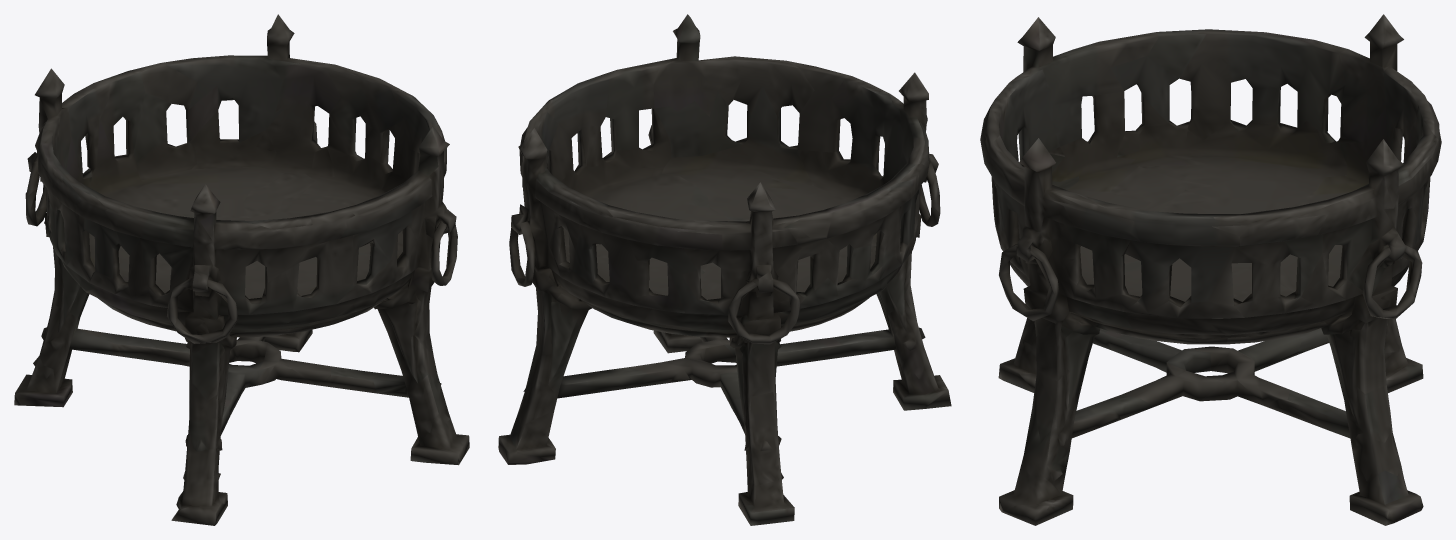
Rendered from floor-brazier.glb.
The picture shows the model from 3 angles, left to right: view 1: azimuth 30°, elevation 25°; view 2: azimuth 150°, elevation 25°; view 3: azimuth 270°, elevation 25°; orthographic projection. The views are drawn at different scales.
Parts seen in each view (by area): view 1: tripo_node_84ddca58-9cd5-486b-8b83-7e4209126bbf; view 2: tripo_node_84ddca58-9cd5-486b-8b83-7e4209126bbf; view 3: tripo_node_84ddca58-9cd5-486b-8b83-7e4209126bbf.
Boxes of the visible parts, left/top/right/bottom form: tripo_node_84ddca58-9cd5-486b-8b83-7e4209126bbf: left=14, top=14, right=469, bottom=525; tripo_node_84ddca58-9cd5-486b-8b83-7e4209126bbf: left=498, top=14, right=951, bottom=525; tripo_node_84ddca58-9cd5-486b-8b83-7e4209126bbf: left=980, top=14, right=1441, bottom=525.
Size of the model in its own units: 0.9948 by 0.8827 by 1.
1 material, 1 textured.
